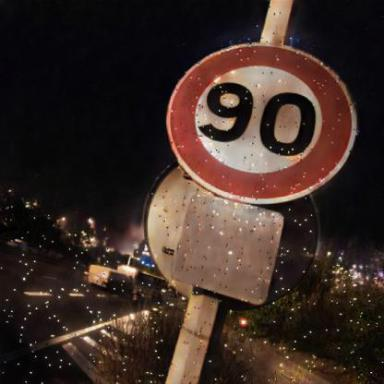Speed_limit_90: (170, 47, 351, 200)
